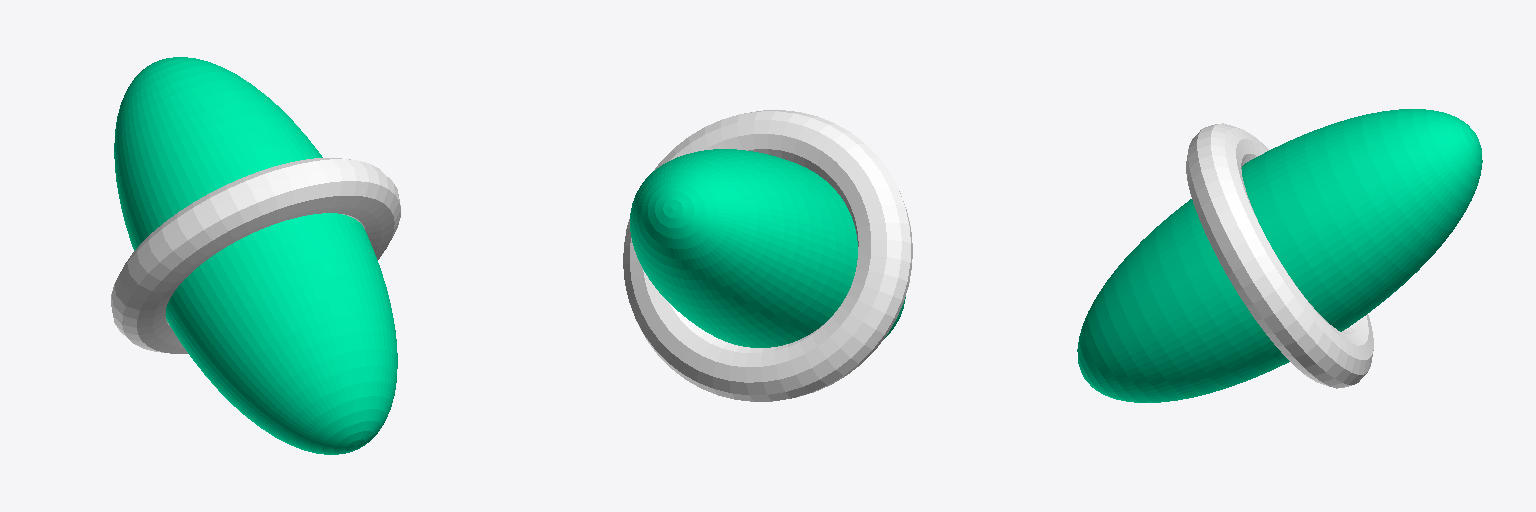
3 renders of one model, left to right at view 1: azimuth 30°, elevation 25°; view 2: azimuth 150°, elevation 25°; view 3: azimuth 270°, elevation 25°, orthographic.
Parts seen in each view (by area): view 1: トーラス.002; view 2: トーラス.002; view 3: トーラス.002.
Boxes of the visible parts, <box> form: トーラス.002: <box>111,57,400,454</box>; トーラス.002: <box>623,110,912,401</box>; トーラス.002: <box>1077,109,1482,402</box>.
Size of the model in its own units: 2.01 by 1.96 by 2.58.
Materials: 1 (1 with a texture image).